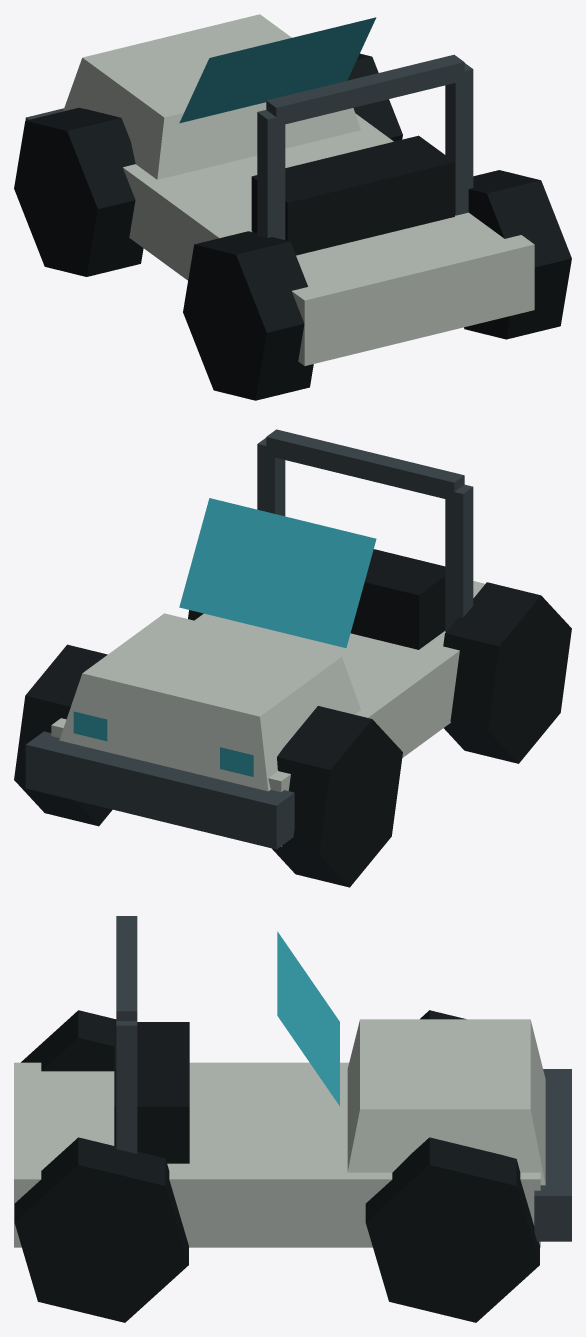
Rendered from motorized.glb.
The picture shows the model from 3 angles, top to bottom: view 1: azimuth 30°, elevation 25°; view 2: azimuth 150°, elevation 25°; view 3: azimuth 270°, elevation 25°; orthographic projection. The views are drawn at different scales.
Visible parts, largest first — view 1: vehicle, wheel--1--7, wheel--1-7, wheel-1--7, wheel-1-7; view 2: vehicle, wheel--1--7, wheel--1-7, wheel-1-7; view 3: vehicle, wheel-1-7, wheel-1--7, wheel--1--7.
Part boxes in pixels (x1,y1,x2,y2): vehicle: (25,14,534,365); wheel--1--7: (183,231,313,400); wheel--1-7: (14,107,143,276); wheel-1--7: (464,170,571,339); wheel-1-7: (347,53,402,141); vehicle: (25,429,484,849); wheel--1--7: (443,582,571,763); wheel--1-7: (272,706,402,887); wheel-1-7: (14,644,112,826); vehicle: (14,916,571,1247); wheel-1-7: (365,1137,539,1322); wheel-1--7: (14,1137,188,1322); wheel--1--7: (21,1010,116,1071).
Bounding box in the file's own units: 4.51 × 3.83 × 6.87.
